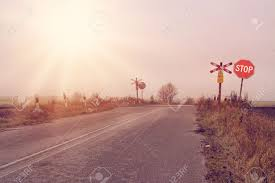stop_sign: (233, 60, 255, 80)
